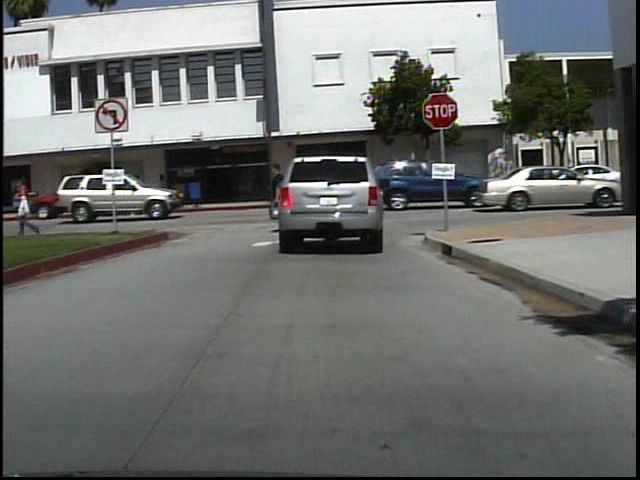person: (11, 173, 48, 241), (265, 159, 295, 238), (127, 171, 151, 210), (164, 172, 165, 205)
